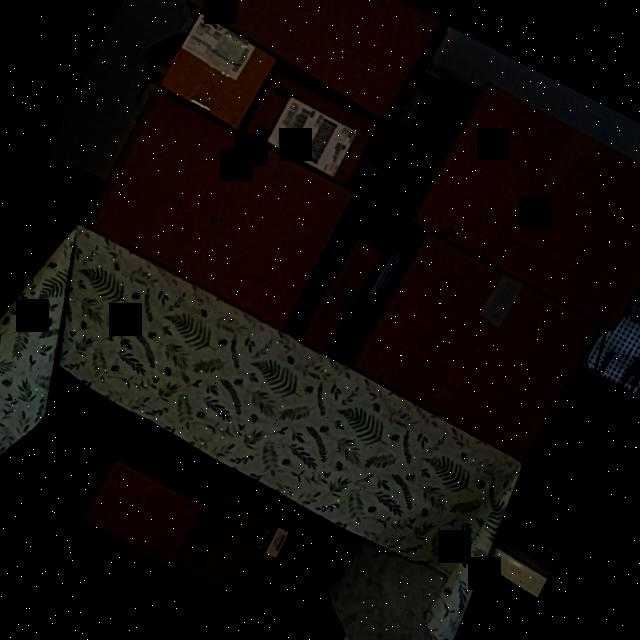box: (84, 93, 354, 331), (414, 84, 640, 333), (354, 233, 596, 456), (182, 0, 436, 115), (242, 72, 378, 187), (159, 15, 278, 130), (179, 493, 290, 605), (85, 459, 203, 564), (302, 236, 381, 352)
